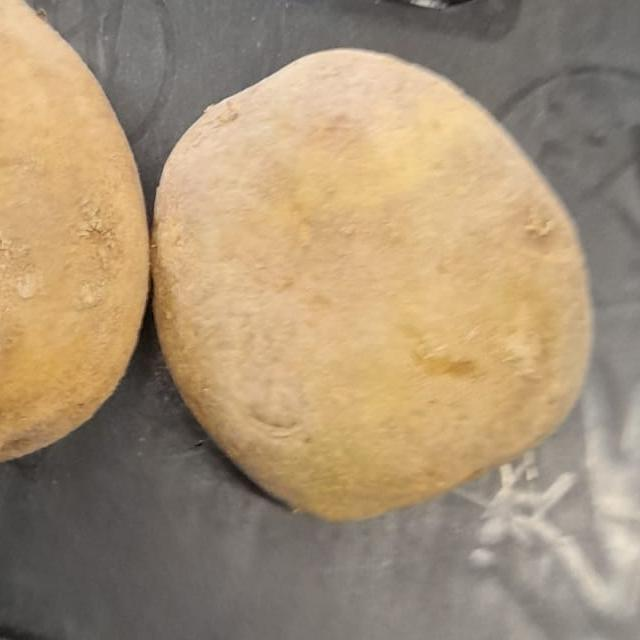potato: (133, 0, 610, 520), (0, 0, 166, 466)
